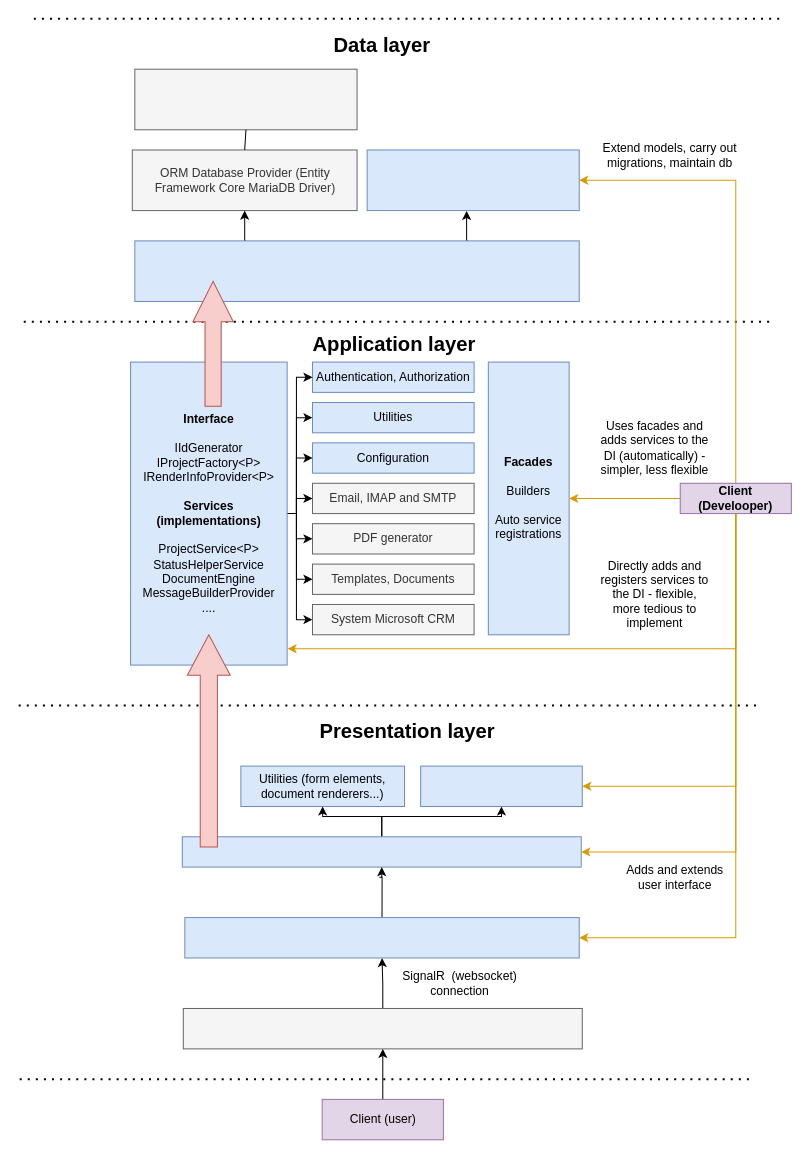
Image size: 809x1157. Some labels were removed from this diagram. Here are the shapes that lost their labels. From the top down, the centre of each, then its label:
At point 245,99: "PostgreSQL Server".
At point 472,180: "Data model".
At point 356,270: "Database context".
At point 501,785: "Cascading style sheets".
At point 381,851: "Blazor Components".
At point 381,937: "Pages (routing)".
At point 382,1028: "User web browser".
